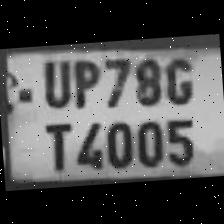0: (130, 113, 164, 168), (100, 114, 134, 168)
4: (70, 116, 104, 170)
5: (160, 111, 198, 166)
7: (96, 52, 132, 110)
8: (128, 52, 164, 109)
G: (160, 50, 196, 105)
P: (66, 54, 102, 110)
T: (35, 116, 75, 173)
U: (34, 54, 72, 108)
